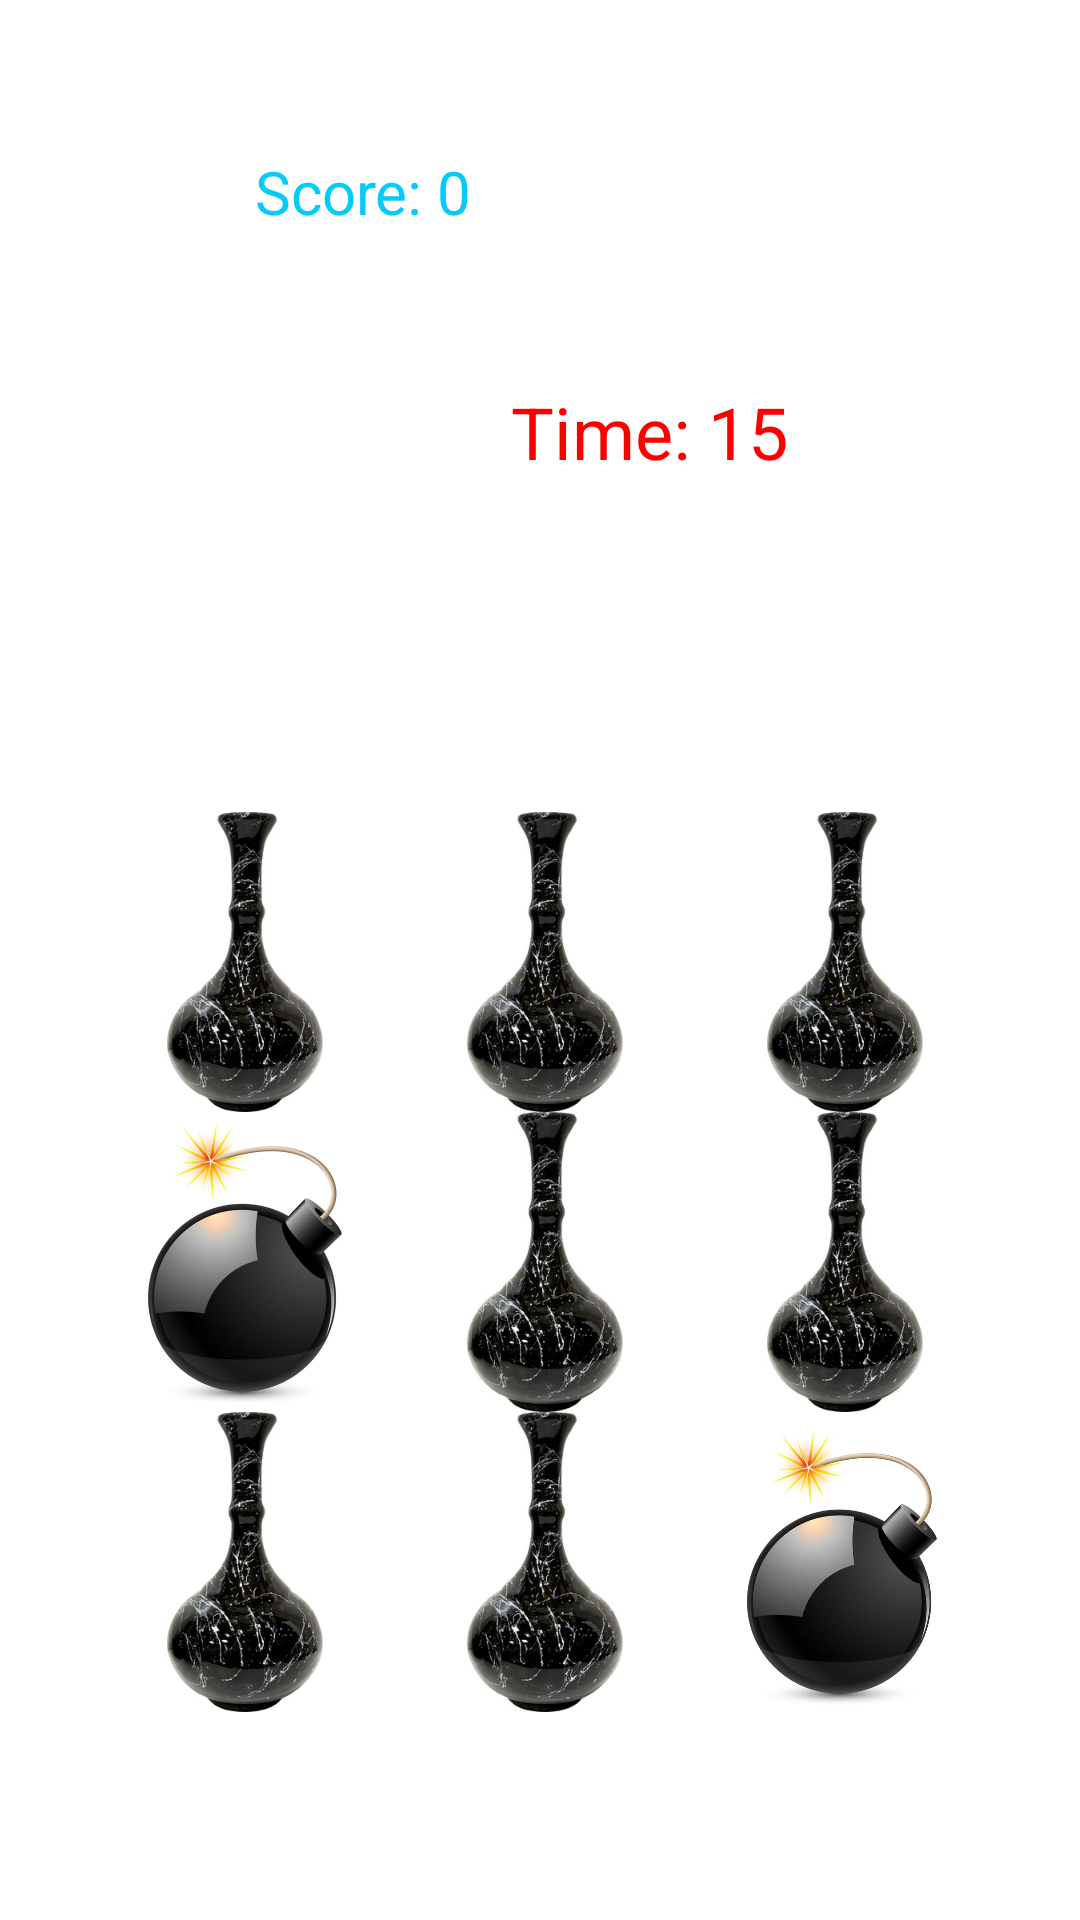

Named icons in this screenshot (1080w x 1920h) and their bounding boxes, (x1, y1, x2, y2):
bomba: (148, 1122, 342, 1399), (747, 1430, 937, 1701)
vazo: (167, 812, 323, 1112), (467, 812, 623, 1112), (767, 812, 923, 1112), (467, 1112, 623, 1412), (767, 1112, 923, 1412), (167, 1412, 323, 1712), (467, 1412, 623, 1712)
